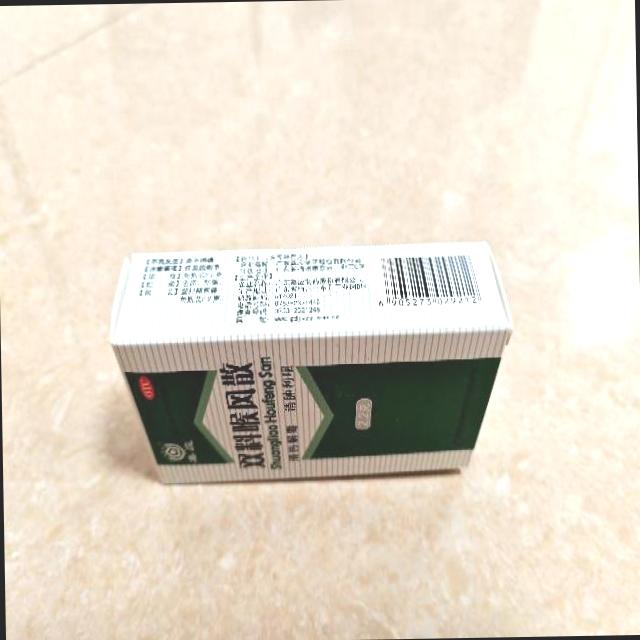box: (106, 239, 514, 484)
